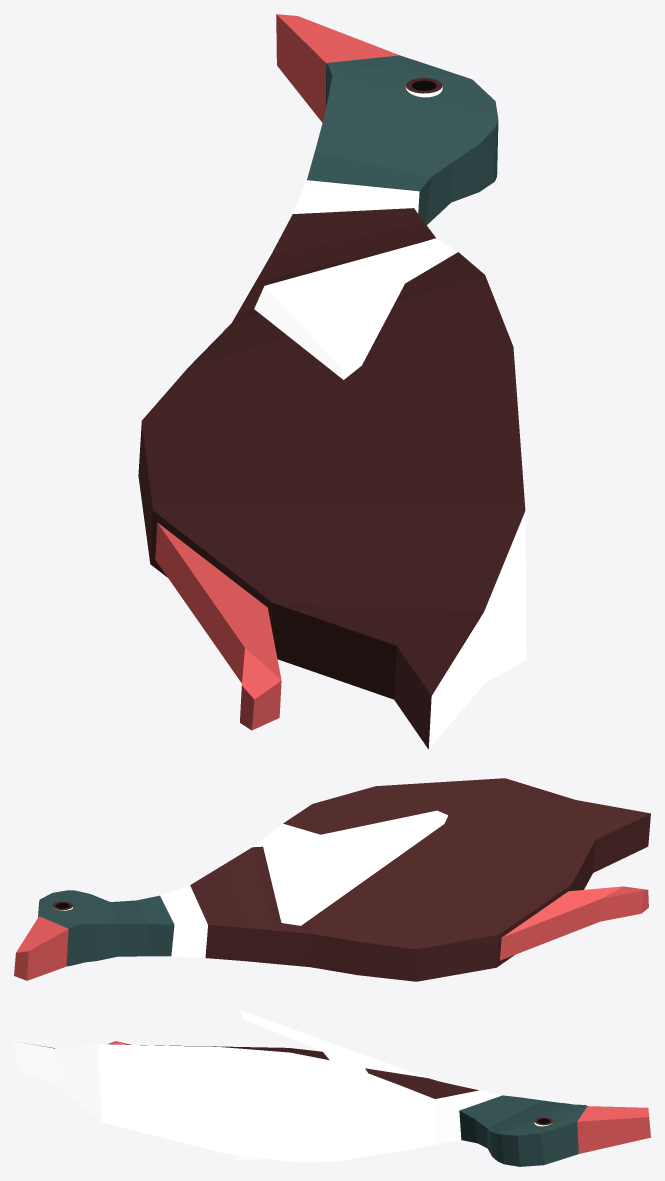
3 views of the same model, one above another, from view 1: azimuth 30°, elevation 25°; view 2: azimuth 150°, elevation 25°; view 3: azimuth 270°, elevation 25° (orthographic). The views are drawn at different scales.
Visible parts, largest first — view 1: Plane; view 2: Plane; view 3: Plane.
Boxes of the visible parts, left/top/right/bottom form: Plane: left=138, top=14, right=526, bottom=749; Plane: left=14, top=778, right=650, bottom=981; Plane: left=14, top=1010, right=650, bottom=1166.
Bounding box in the file's own units: 7.57 × 3.13 × 12.7.
